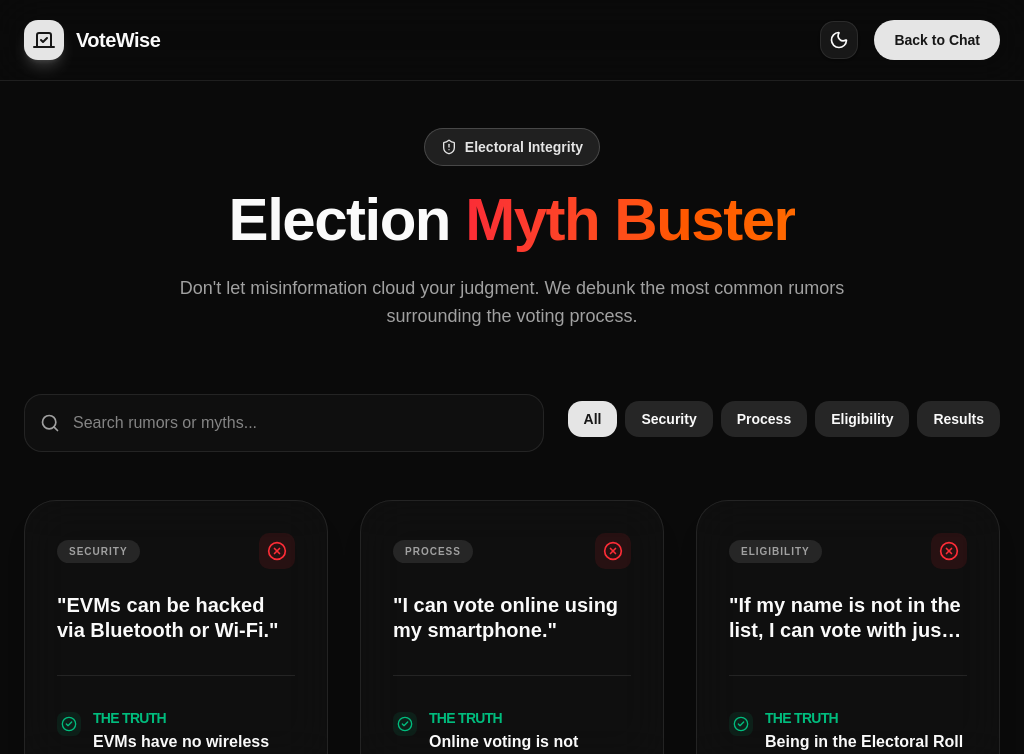
Test: MythBusterPage › shows no results message (implied by empty grid)
The image size is (1024, 754).
Type "nonexistentmyth" into the field with placeholder "Search rumors or myths...".
click(284, 423); type("nonexistentmyth")  # box [24, 394, 544, 452]
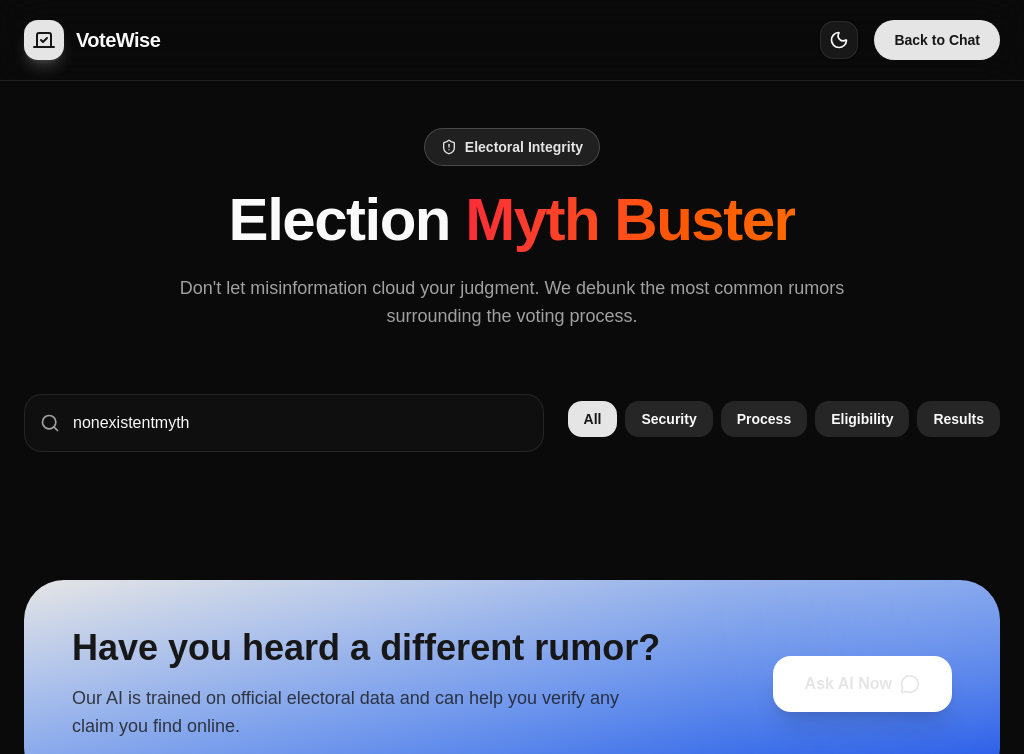
Expected: no the heading "\"EVMs can be hacked via Bluetooth or Wi-Fi.\"" are shown
